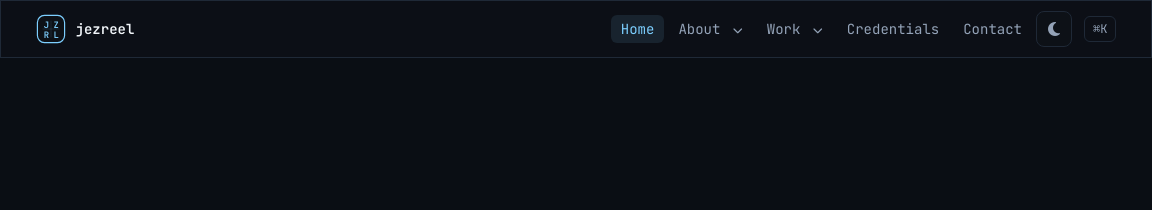
Test: Nav dropdown groups › only opens the clicked group, not every group with a dropdown
Click the button "About" at (711, 29), box [668, 15, 753, 43]
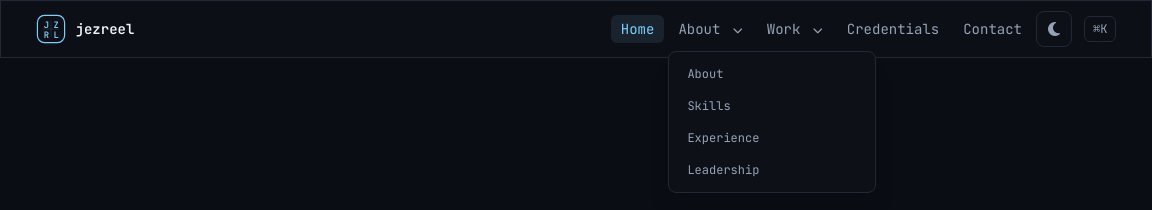
Expected: the text "Featured projects" is not shown
Result: the button "Skills" is shown at [675, 90, 869, 122]
Result: the button "Leadership" is shown at [675, 154, 869, 186]
Click the button "Work" at (795, 29), box [757, 15, 833, 43]
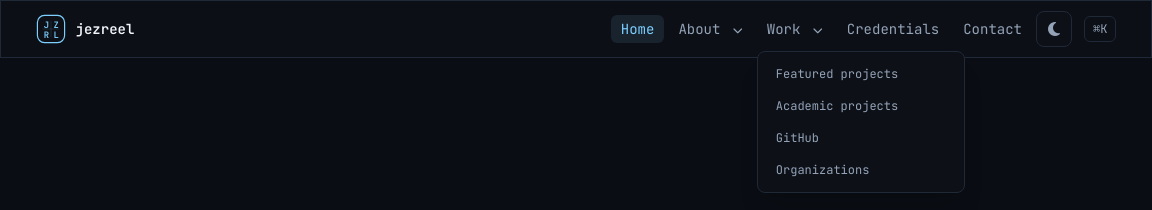
Result: the button "Featured projects" is shown at [764, 58, 958, 90]
Result: the button "Skills" is gone
